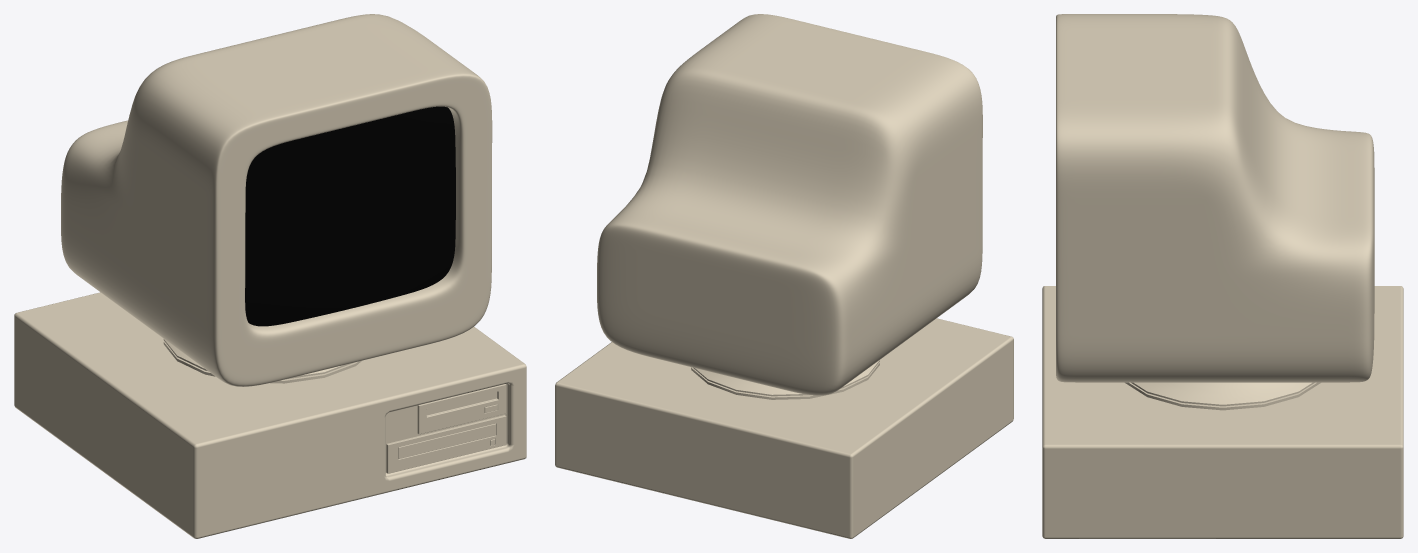
The picture shows the model from 3 angles, left to right: view 1: azimuth 30°, elevation 25°; view 2: azimuth 150°, elevation 25°; view 3: azimuth 270°, elevation 25°; orthographic projection. The views are drawn at different scales.
Parts seen in each view (by area): view 1: monitor, pc, monitor_base; view 2: monitor, pc, monitor_base; view 3: monitor, pc, monitor_base.
Part boxes in pixels (x1,y1,x2,y2): monitor: (61,14,492,386); pc: (14,292,526,538); monitor_base: (163,339,361,383); monitor: (597,14,982,395); pc: (555,318,1013,538); monitor_base: (691,360,879,399); monitor: (1056,14,1374,382); pc: (1042,286,1403,538); monitor_base: (1125,382,1320,410).
Size of the model in its own units: 4.17 by 4.74 by 3.95.
